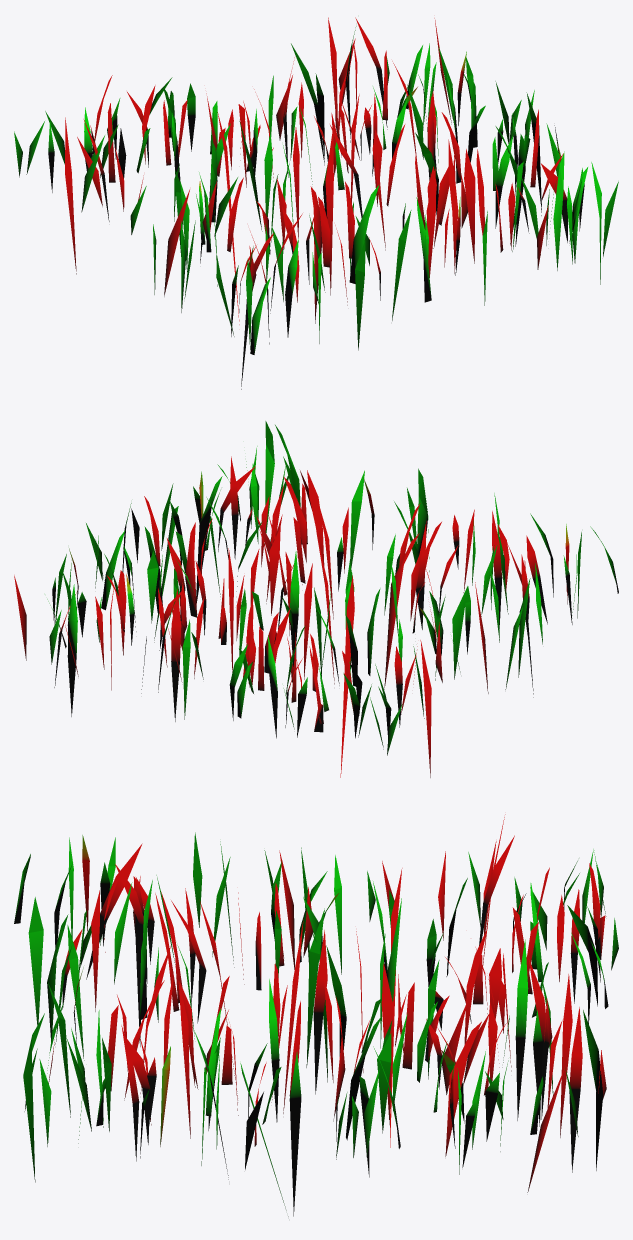
The model's file is mesh_dsj_grass_lod0.fbx.
3 renders of one model, top to bottom at view 1: azimuth 30°, elevation 25°; view 2: azimuth 150°, elevation 25°; view 3: azimuth 270°, elevation 25°, orthographic. The views are drawn at different scales.
Parts seen in each view (by area): view 1: mesh_dsj_grass_lod04; view 2: mesh_dsj_grass_lod04; view 3: mesh_dsj_grass_lod04.
Boxes of the visible parts, <box> form: mesh_dsj_grass_lod04: <box>14,17,618,389</box>; mesh_dsj_grass_lod04: <box>14,421,618,777</box>; mesh_dsj_grass_lod04: <box>14,814,618,1216</box>.
Size of the model in its own units: 3.49 by 1.79 by 3.45.
